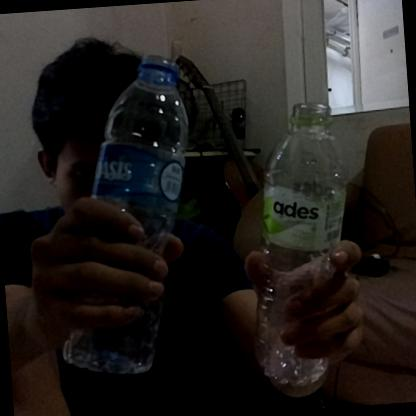plastic_bottles: (47, 55, 202, 376), (238, 100, 360, 392)
